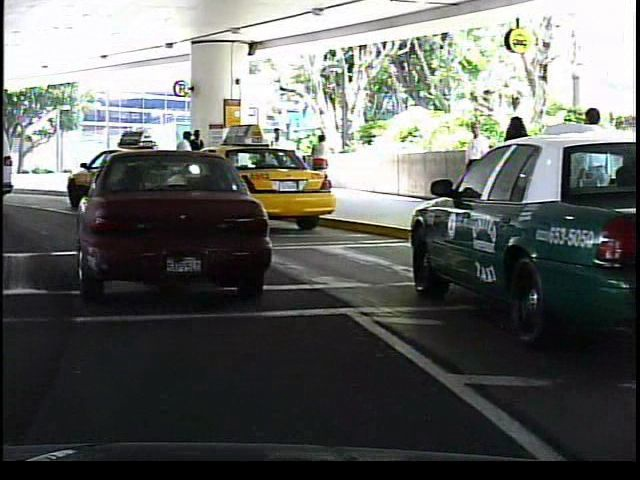person: (493, 108, 544, 250), (567, 99, 612, 243), (458, 116, 492, 214), (263, 123, 290, 192), (172, 130, 197, 193), (305, 130, 331, 189), (189, 127, 208, 192)
